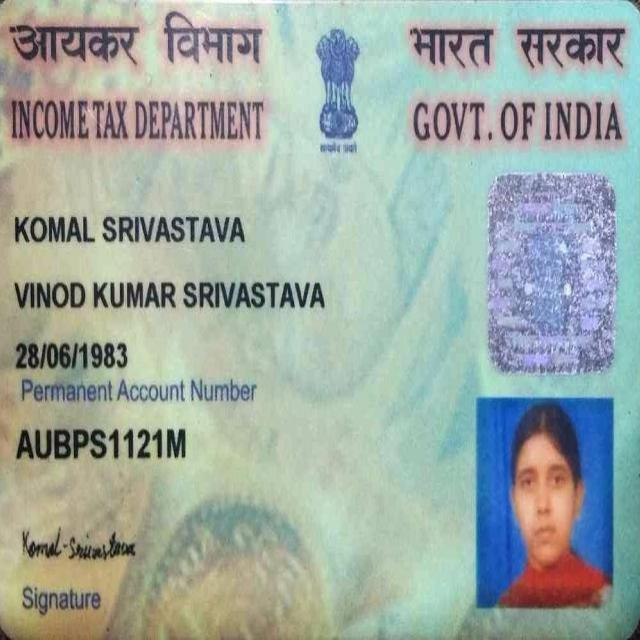pan_card: (1, 3, 639, 637)
